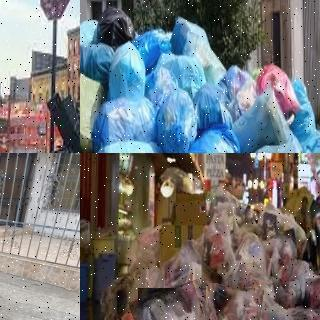Garbage: (161, 238, 219, 307), (226, 233, 277, 302), (91, 95, 156, 144), (133, 283, 218, 320), (201, 195, 237, 269), (154, 88, 194, 153), (245, 281, 308, 320), (145, 51, 204, 92), (255, 63, 301, 115), (169, 16, 211, 68), (203, 284, 262, 320), (107, 40, 145, 94), (166, 126, 238, 153), (192, 83, 231, 130), (95, 4, 135, 44), (80, 73, 100, 151), (80, 43, 111, 78), (92, 139, 166, 153), (281, 300, 320, 320)
